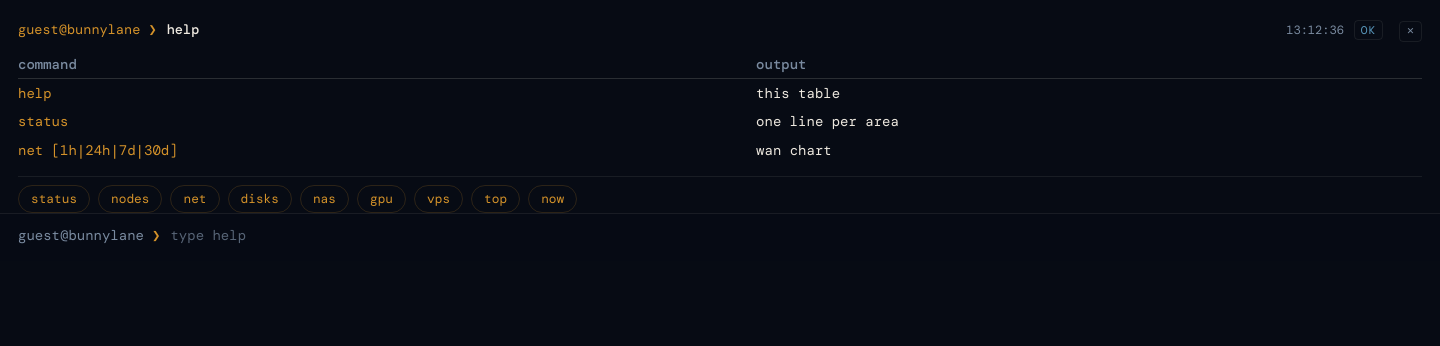
Test: argument chips on a live block switch the stream, stop ends it, close removes it
Expected: the element "help" is shown, [18,8,1422,177]
Click the button "net".
click(195, 199)  # box [170,185,220,213]
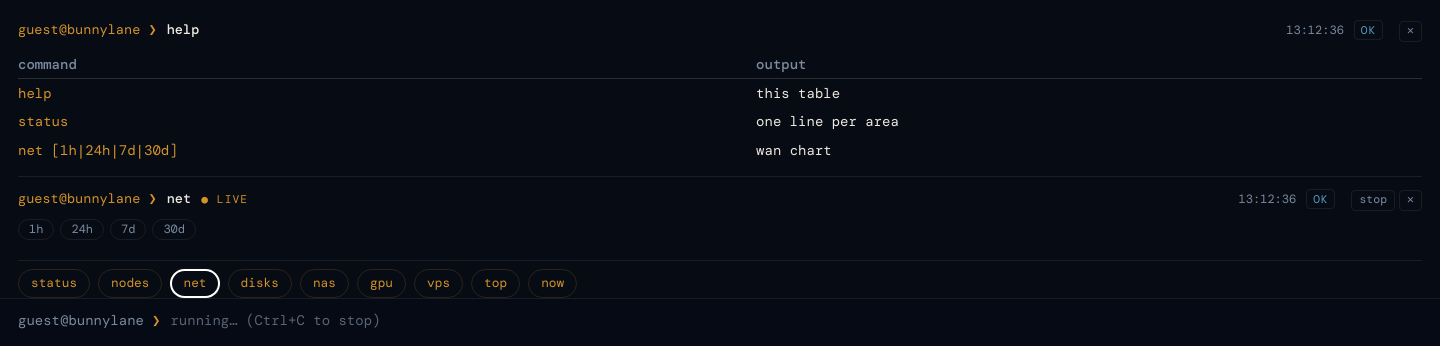
Click the button "24h".
click(82, 229)  # box [60,219,104,240]
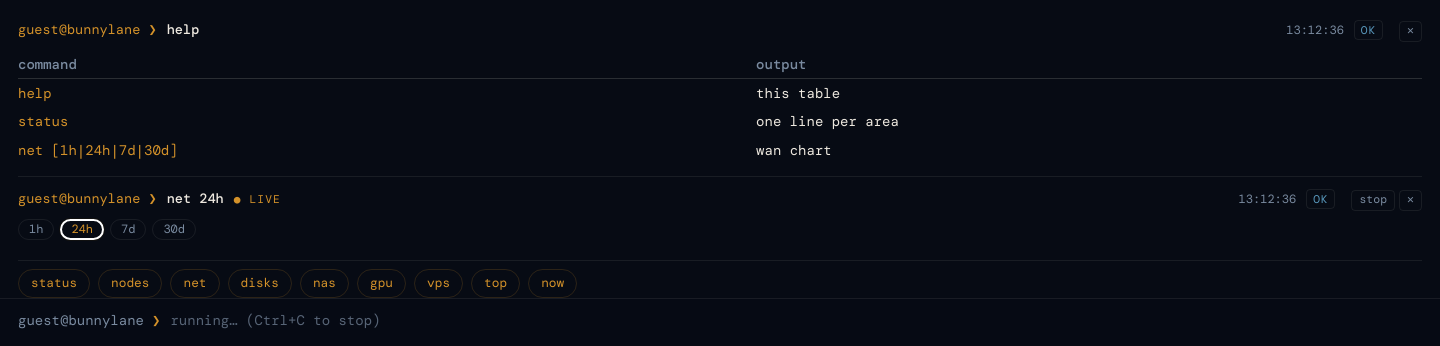
Expected: the element "net 24h" is shown, [18,177,1422,261]
Click the button "stop".
click(1373, 200)  # box [1351,190,1395,211]
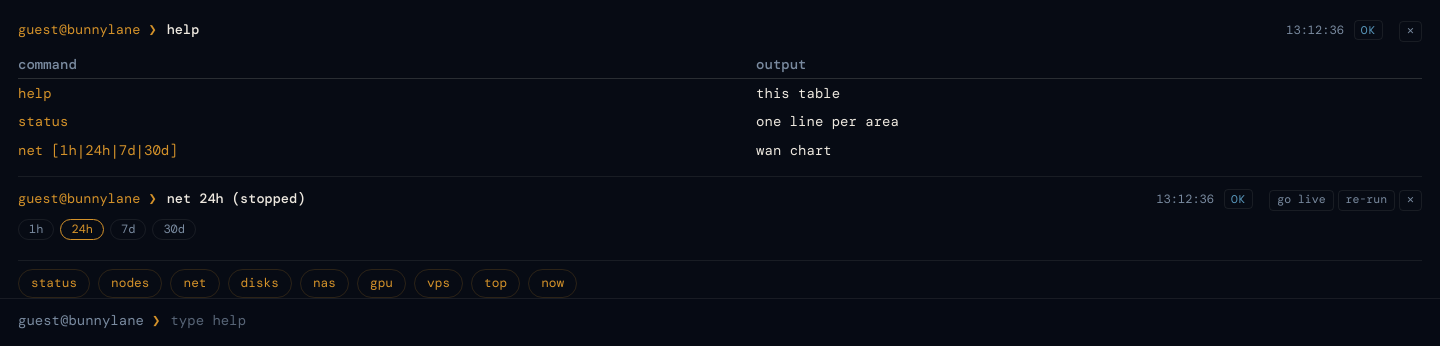
Click the button "go live".
click(1301, 200)  # box [1269,190,1334,211]
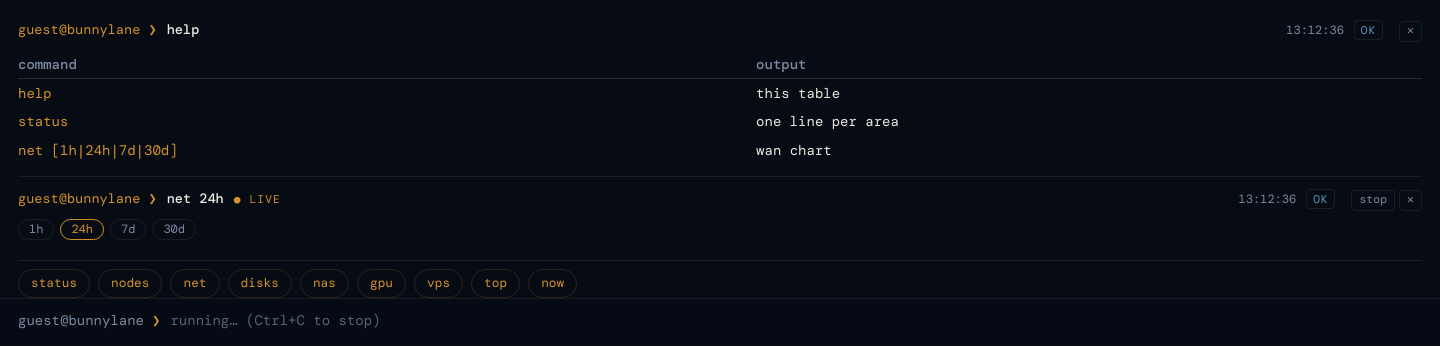
Click the button named "close".
click(1411, 200)  # box [1399,190,1422,211]
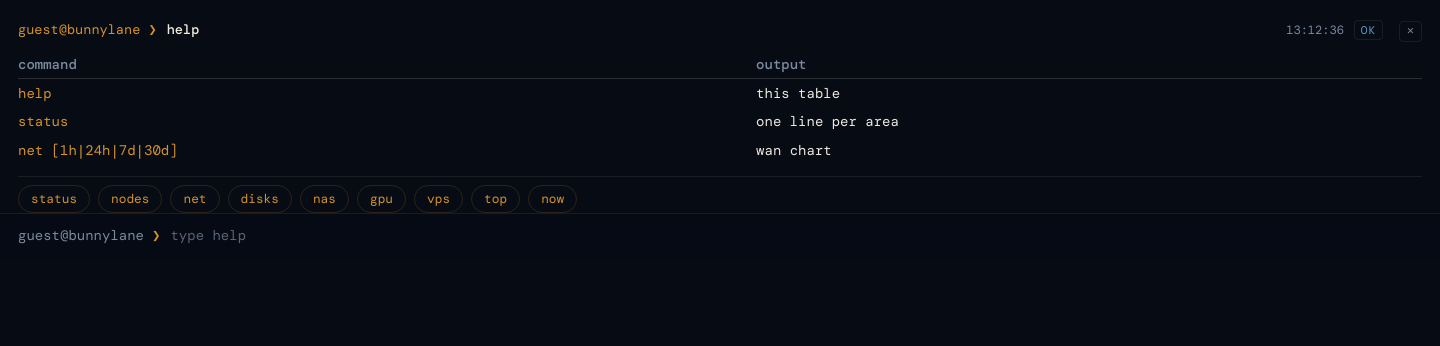
Expected: the text "net 24h" is gone
